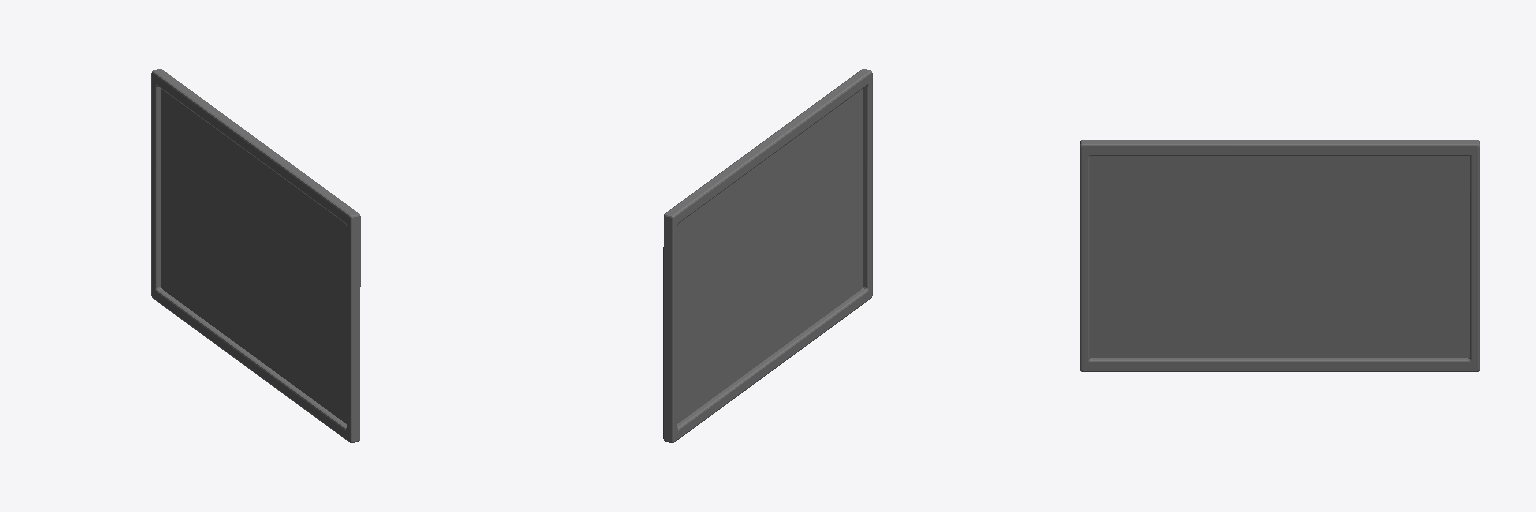
Rendered from CHALKBOARD.obj.
3 views of the same model, side by side, from view 1: azimuth 30°, elevation 25°; view 2: azimuth 150°, elevation 25°; view 3: azimuth 270°, elevation 25° (orthographic).
Parts seen in each view (by area): view 1: polySurface20, polySurface19; view 2: polySurface20, polySurface19; view 3: polySurface20, polySurface19.
Part boxes in pixels (bbox=[...]): polySurface20: bbox=[161, 89, 346, 423]; polySurface19: bbox=[151, 69, 360, 442]; polySurface20: bbox=[677, 89, 862, 423]; polySurface19: bbox=[663, 69, 872, 442]; polySurface20: bbox=[1090, 156, 1469, 357]; polySurface19: bbox=[1080, 140, 1479, 371].
Size of the model in its own units: 0.0856 by 1.78 by 2.83.